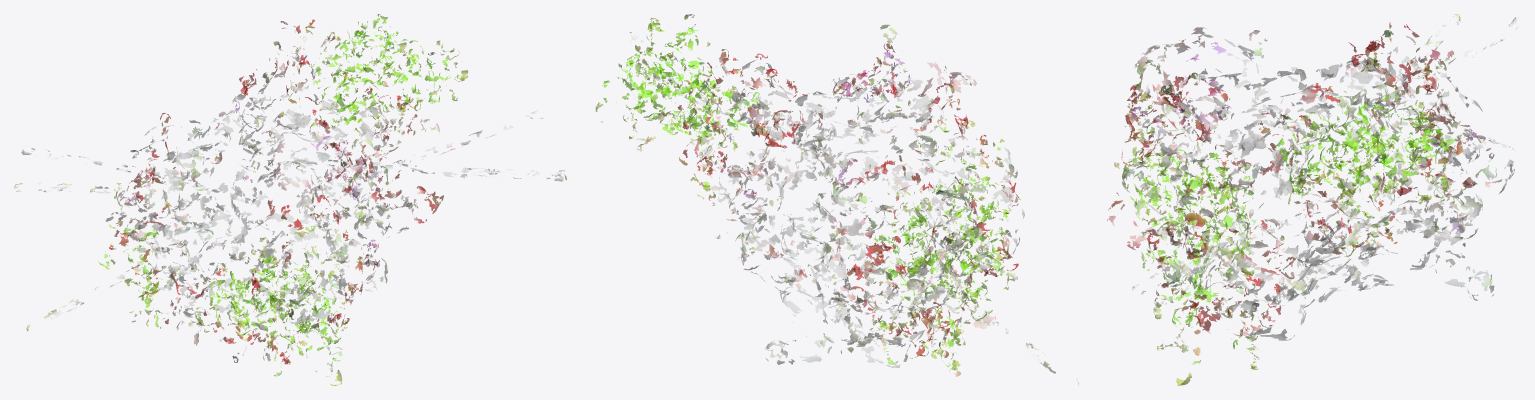
Rendered from cassiopeia-a-supernova.glb.
3 views of the same model, side by side, from view 1: azimuth 30°, elevation 25°; view 2: azimuth 150°, elevation 25°; view 3: azimuth 270°, elevation 25° (orthographic). The views are drawn at different scales.
Parts seen in each view (by area): view 1: Cassiopeia A Supernova; view 2: Cassiopeia A Supernova; view 3: Cassiopeia A Supernova.
Boxes of the visible parts, box(x1,y1,x2,y2) form: Cassiopeia A Supernova: box(14, 14, 566, 385); Cassiopeia A Supernova: box(595, 14, 1078, 384); Cassiopeia A Supernova: box(1107, 14, 1520, 385).
Size of the model in its own units: 18.9 by 11.26 by 11.19.
Materials: 1 (1 with a texture image).
